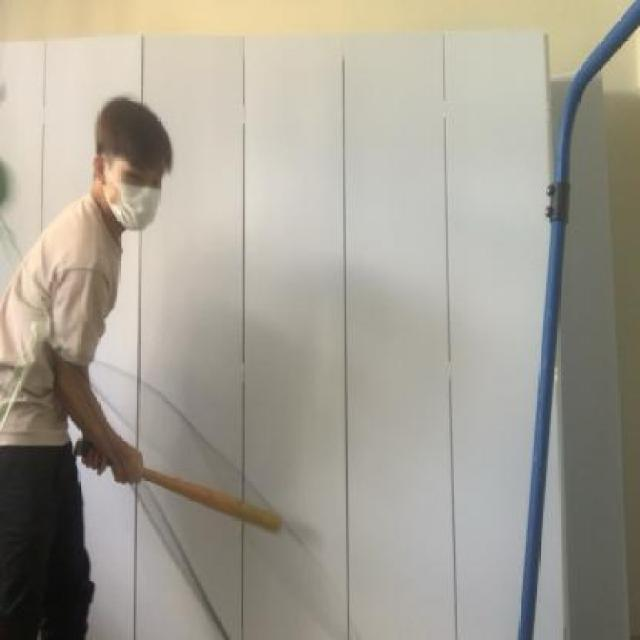baseball: (0, 154, 14, 217)
